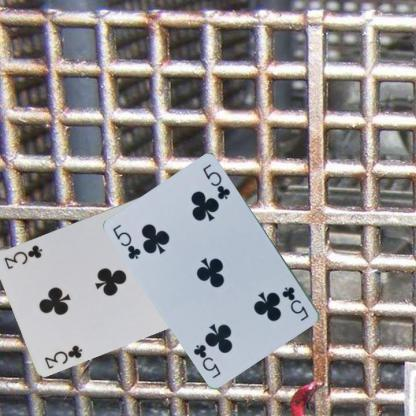3c: (42, 342, 84, 370)
5c: (110, 222, 143, 260), (280, 284, 310, 322)
